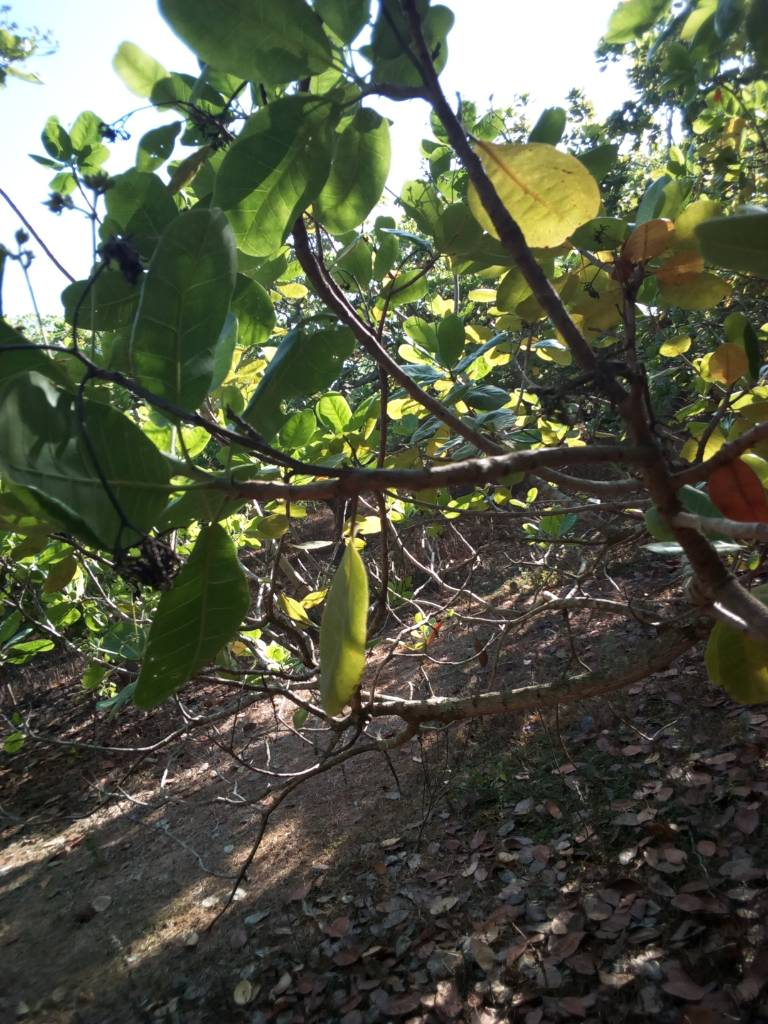Dessèchement des bourgeons: (50, 125, 136, 271), (75, 507, 183, 589), (184, 98, 231, 152)
